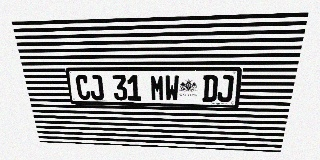1: (126, 75, 141, 101)
3: (112, 75, 127, 100)
C: (75, 75, 91, 100)
D: (202, 75, 218, 102)
J: (217, 75, 234, 102), (88, 75, 104, 100)
M: (150, 75, 164, 101)
W: (165, 75, 179, 101)
